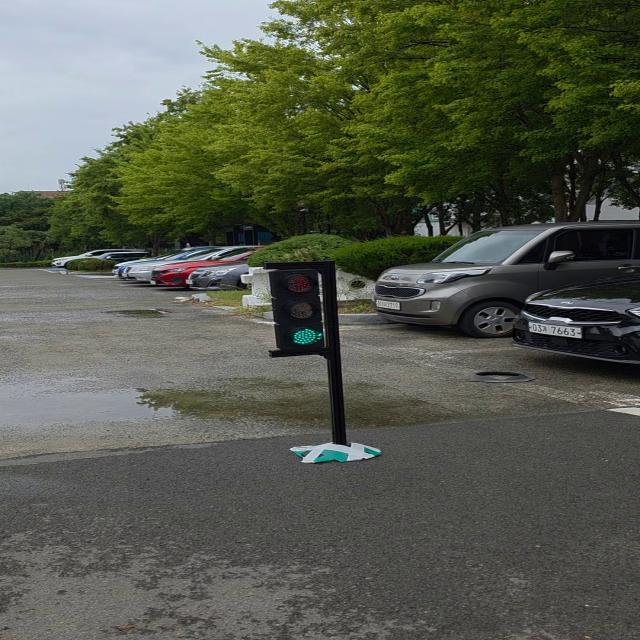green: (271, 262, 336, 356)
